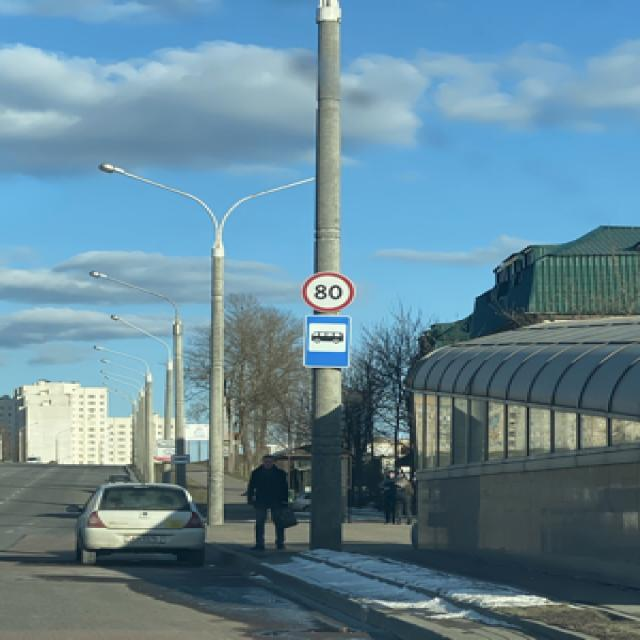speedlimit: (299, 270, 352, 310)
